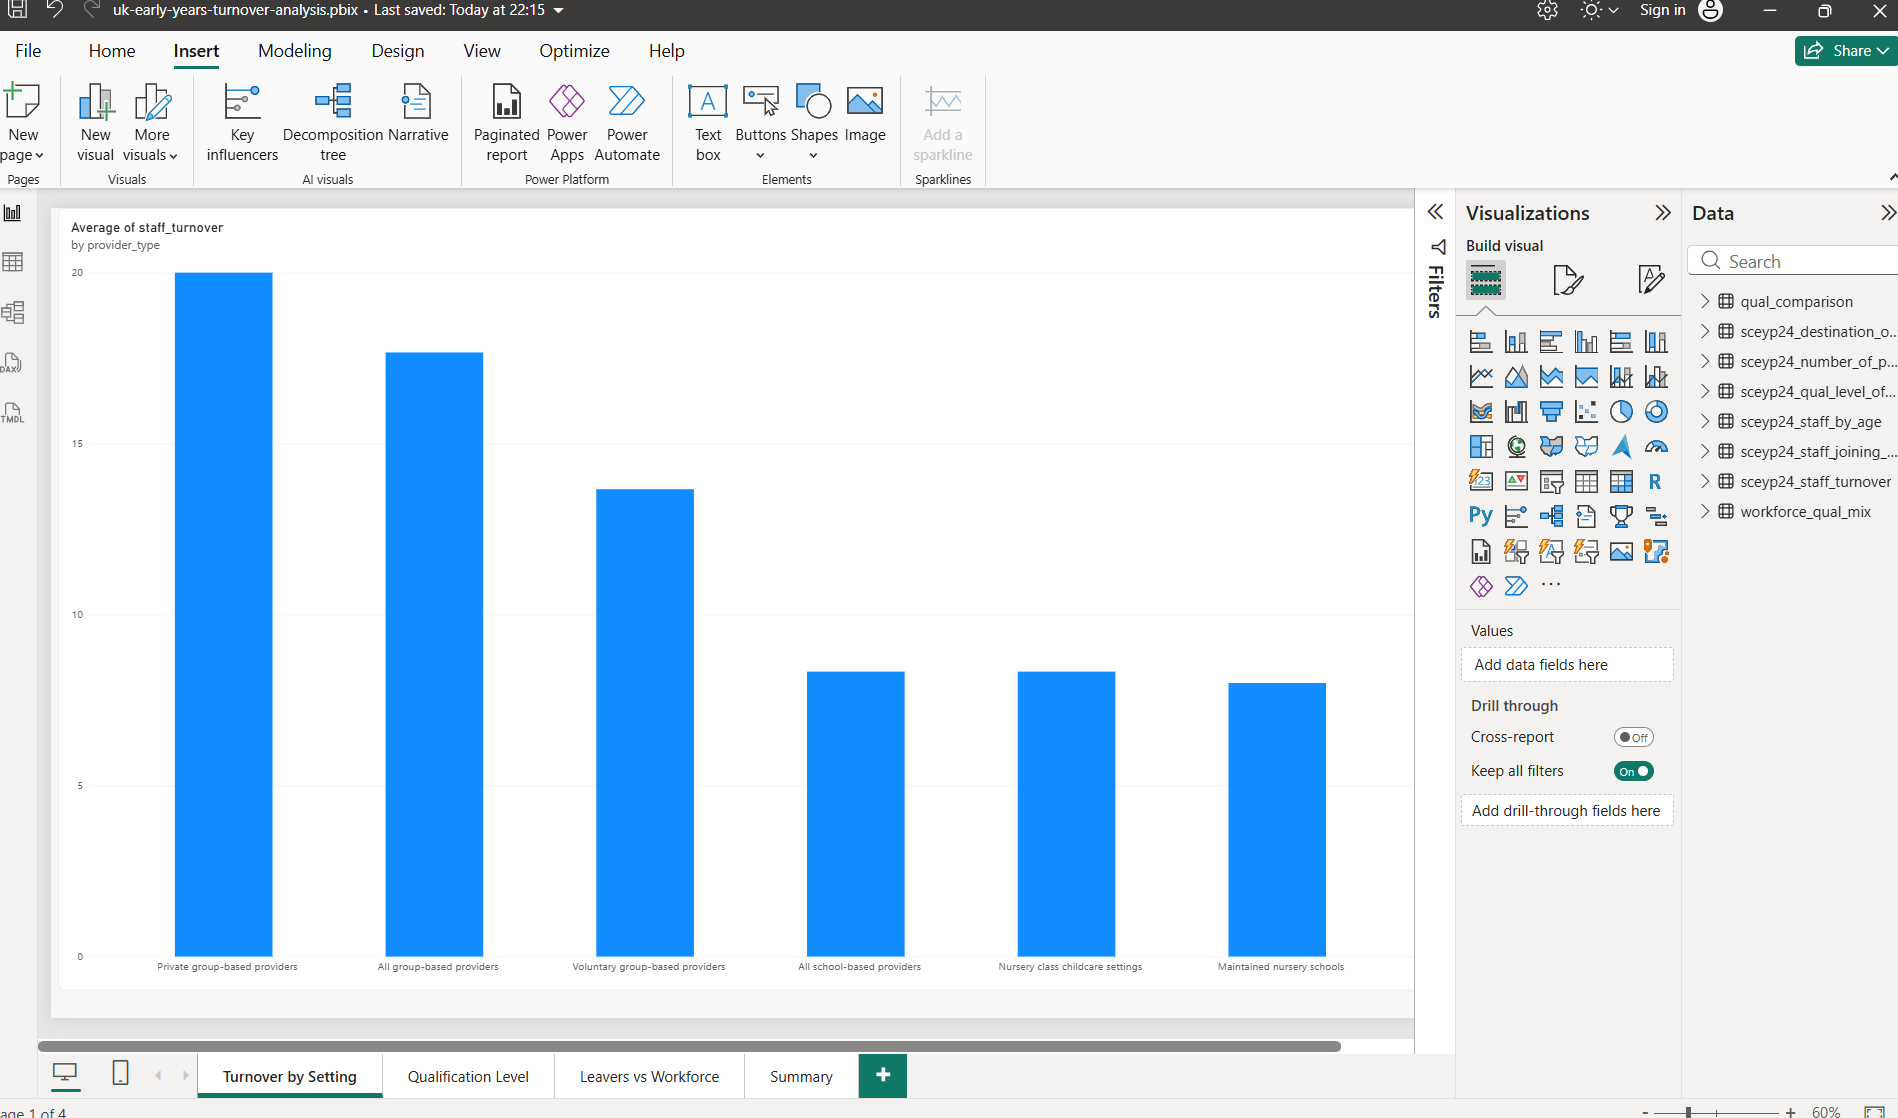

Layout of this report page (visuals, bound fields, positions):
{"tool":"powerbi","page":{"name":"Turnover by Setting","canvas":[1920,1080],"ordinal":0},"visuals":[{"type":"clusteredColumnChart","fields":{"Category":["sceyp24_staff_turnover.provider_type"],"Y":["Avg(sceyp24_staff_turnover.staff_turnover)"]},"box":[10,0,1830,1043.3],"z":0}]}

Visuals, with their boxes on the page's 1920x1080 design canvas (x1, y1, x2, y2). These are canvas units, not pixel positions in the 1898x1118 screenshot, which may show the page scaled, cropped or inside an application window:
clusteredColumnChart - sceyp24_staff_turnover.provider_type x Avg(sceyp24_staff_turnover.staff_turnover): 10/0/1840/1043
